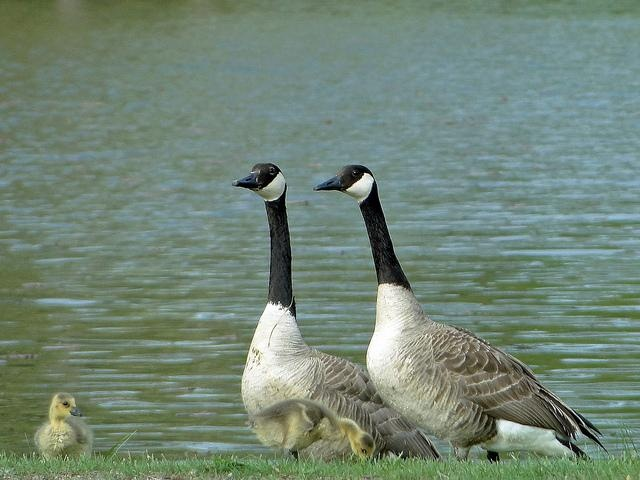bird: (307, 164, 617, 463), (202, 158, 439, 456), (20, 390, 111, 463)
